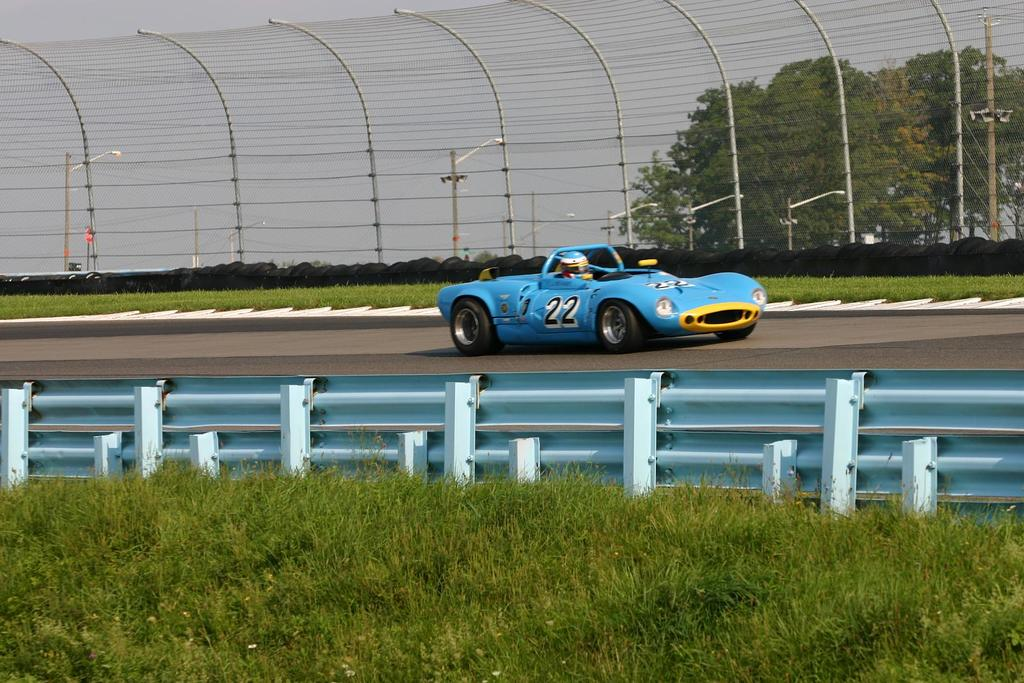cars: (434, 244, 768, 354)
